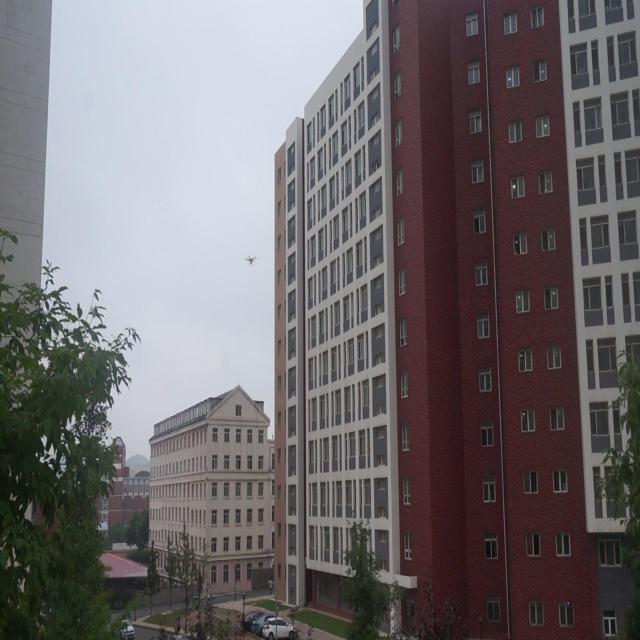drone: (242, 251, 258, 268)
